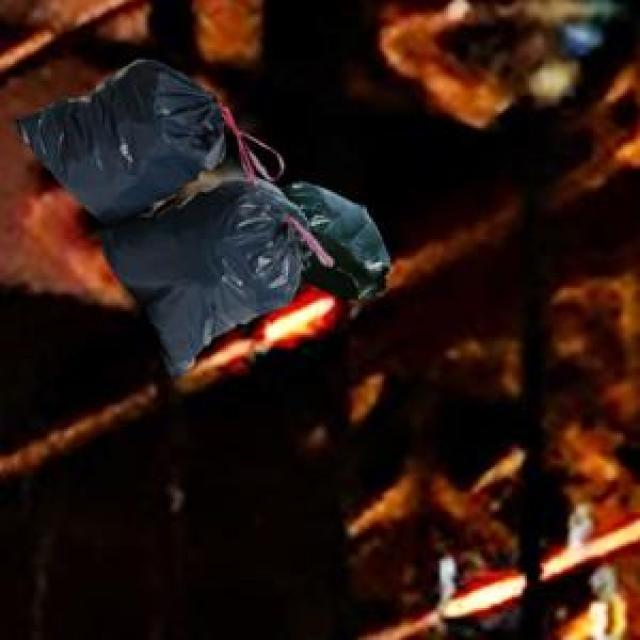waste: (21, 60, 389, 374)
